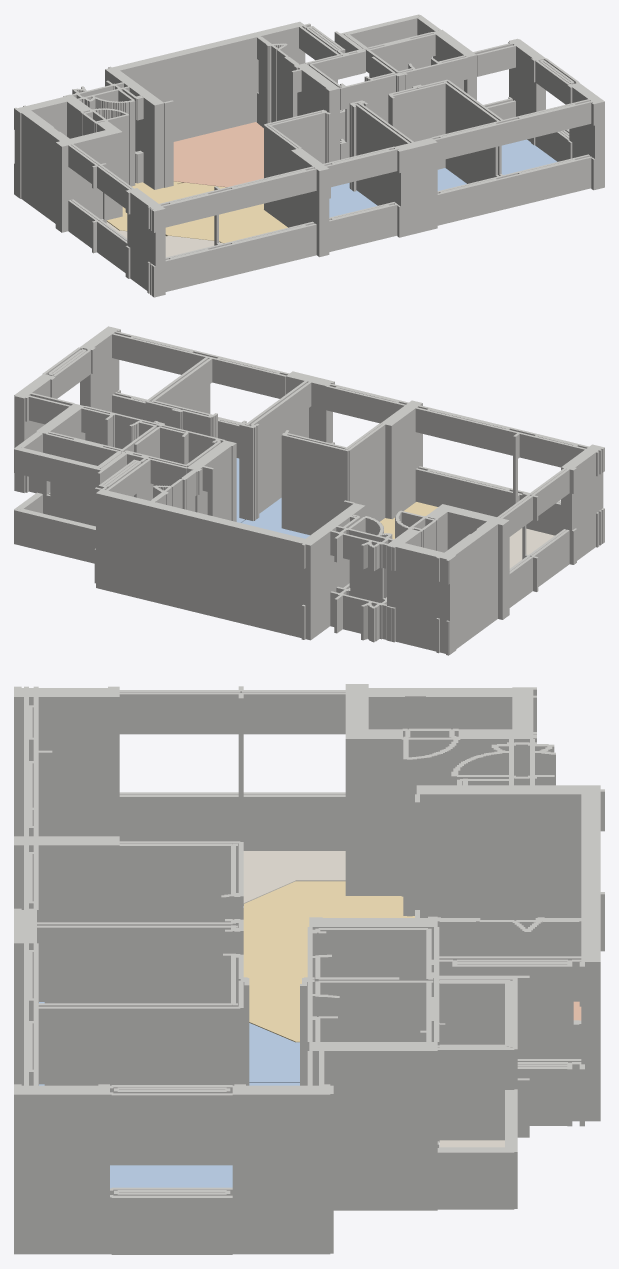
3 views of the same model, one above another, from view 1: azimuth 30°, elevation 25°; view 2: azimuth 150°, elevation 25°; view 3: azimuth 270°, elevation 25° (orthographic). The views are drawn at different scales.
Parts seen in each view (by area): view 1: walls, room:kitchen:0, room:living:6, room:bedroom:9, room:bedroom:3, room:other:2, room:bedroom:8; view 2: walls, room:other:2, room:bedroom:3, room:living:6; view 3: walls, room:living:6, room:other:2, room:bedroom:9, room:bedroom:3.
Part boxes in pixels (x1,y1,x2,y2): walls: (14, 14, 604, 297); room:kitchen:0: (173, 122, 263, 187); room:living:6: (106, 181, 287, 243); room:bedroom:9: (501, 139, 557, 174); room:bedroom:3: (329, 183, 377, 217); room:other:2: (106, 221, 222, 257); room:bedroom:8: (437, 168, 466, 190); walls: (14, 326, 604, 655); room:other:2: (509, 528, 554, 568); room:bedroom:3: (241, 498, 309, 538); room:living:6: (380, 502, 437, 539); walls: (14, 684, 604, 1254); room:living:6: (243, 881, 414, 1042); room:other:2: (243, 851, 345, 905); room:bedroom:9: (110, 1165, 232, 1188); room:bedroom:3: (39, 1002, 299, 1082).
Size of the model in its own units: 15.48 by 2.8 by 9.4.
